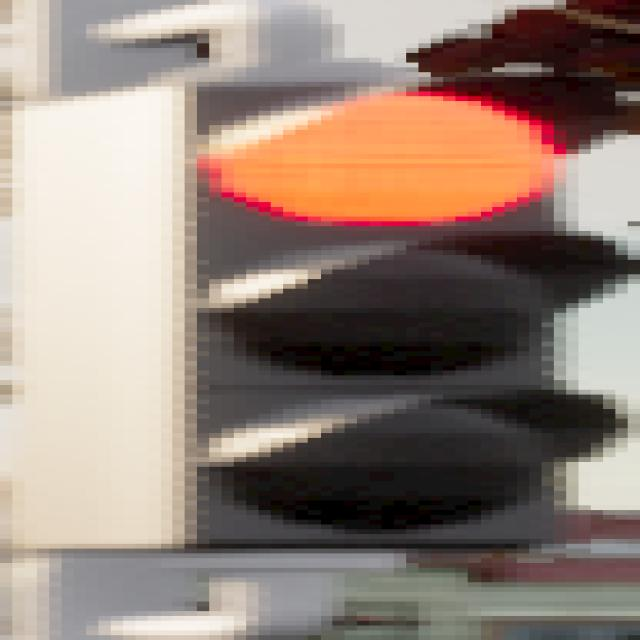red_light: (86, 77, 640, 553)
